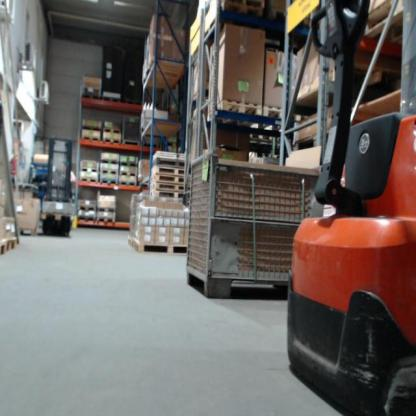pallet: (207, 102, 261, 131), (135, 239, 189, 256), (223, 0, 264, 18), (262, 105, 284, 130), (154, 184, 187, 193), (231, 0, 267, 8), (154, 193, 186, 201), (154, 161, 186, 169), (155, 169, 186, 177), (155, 177, 187, 184), (6, 235, 17, 252), (77, 214, 97, 223), (99, 158, 119, 166), (97, 214, 116, 222), (77, 205, 97, 212), (82, 93, 101, 100), (82, 125, 101, 132), (80, 166, 99, 173), (80, 176, 99, 183), (100, 178, 119, 185), (125, 99, 143, 106), (119, 170, 137, 177), (102, 128, 122, 134), (98, 207, 118, 213), (119, 180, 136, 187), (102, 97, 121, 103), (82, 135, 101, 141), (102, 138, 121, 144), (100, 169, 119, 175), (121, 161, 138, 167)
pallet_truck: (284, 3, 415, 413), (42, 133, 78, 240)
stillage: (186, 150, 336, 300)
